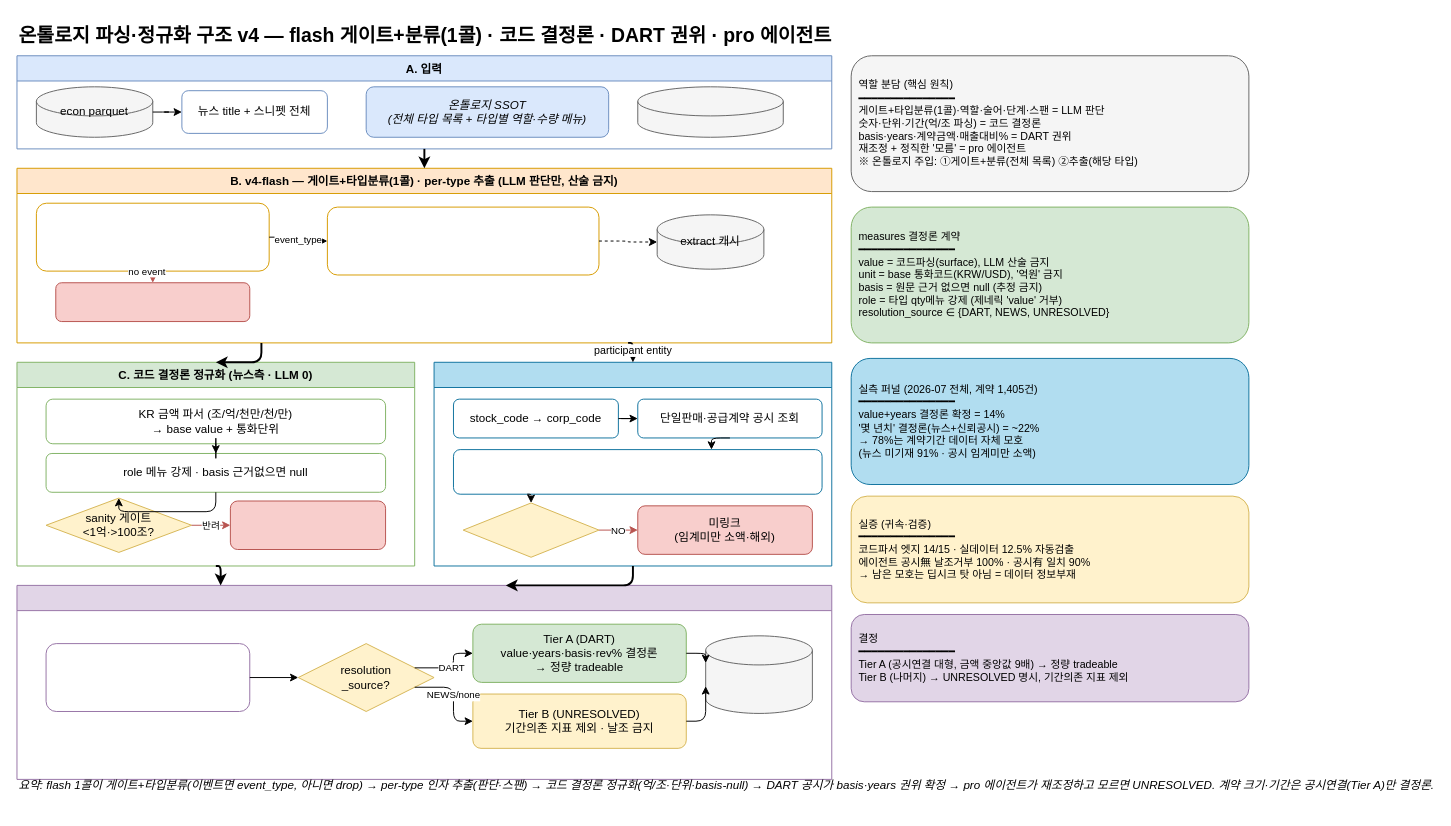
Image size: 1451x826. Some labels were removed from this diagram. Here are the shapes that lost their labels. From the top down, the box of each, then its label:
(637, 86, 783, 137): DART OpenAPI
(35, 202, 269, 271): flash 게이트+타입분류 (1콜) 이벤트 → event_type 아니면 → 없음(drop)
(326, 206, 599, 275): per-type 인자 추출 role · predicate · stage + measure SURFACE (원문 verbatim)
(55, 282, 250, 322): 비이벤트 drop (분석·시황·홍보)
(433, 361, 832, 566): D. DART 공시 리졸버 (정규식 · LLM·온톨로지 0)
(453, 449, 822, 494): 정규식 파싱 → 계약금액 · 기간(시작/종료)→years · 매출대비%
(229, 500, 386, 550): 리뷰 큐 (범위·모호·의심값)
(462, 502, 599, 557): 금액·날짜 매칭?
(45, 643, 250, 711): 에이전트: 뉴스+DART 대조 권위 = DART > NEWS (근거 없으면 날조 금지)
(16, 584, 832, 779): E. v4-pro 에이전트 재조정 → canonical-event-2.0
(705, 635, 812, 713): canonical- event-2.0
